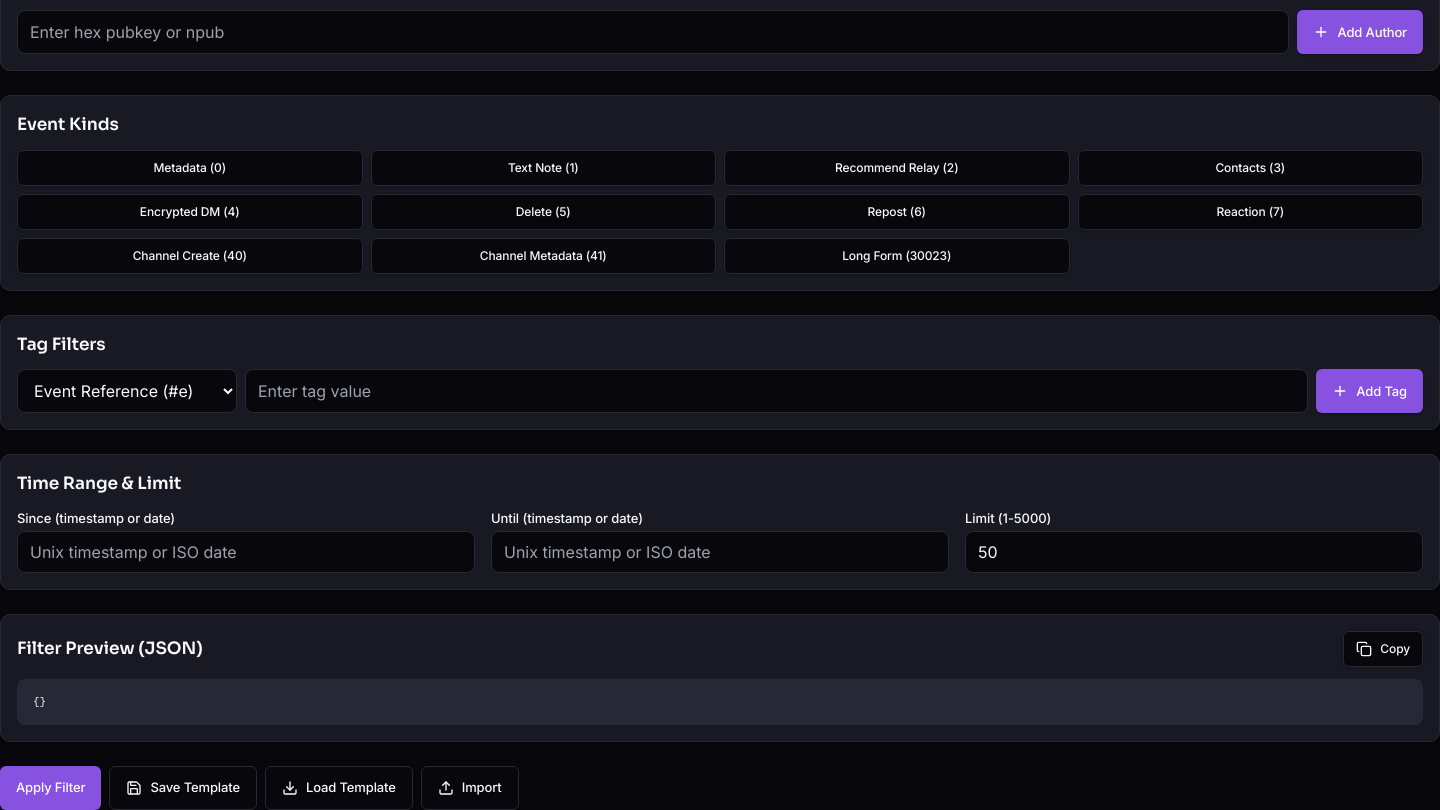
Test: FilterBuilder › Import/Export › rejects malformed JSON import
(page scrolled)
Click the button "Import".
click(470, 788)  # box [421,766,519,809]
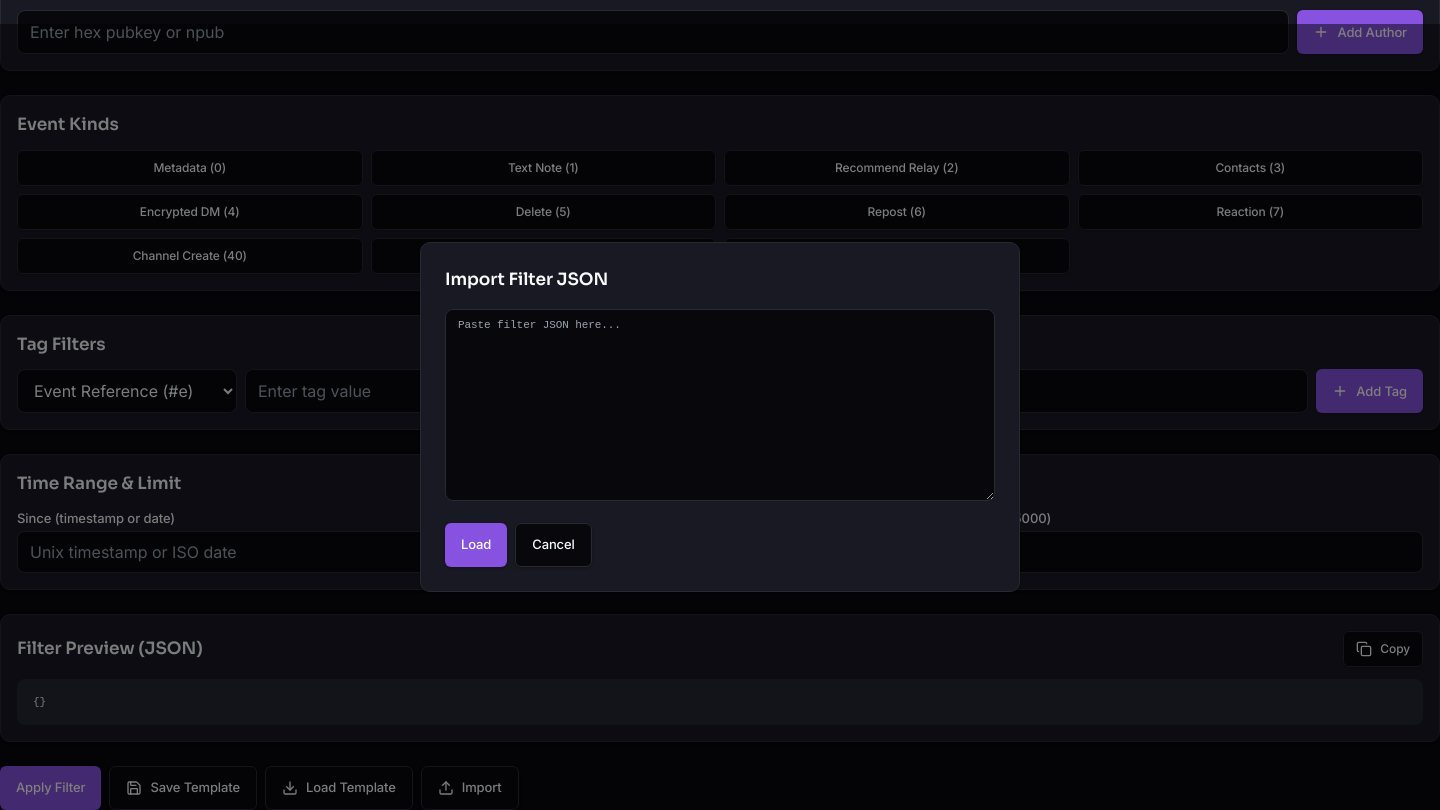
// Use malformed JSON (not parseable) to trigger "invalid JSON format" error
Type "not valid json" into the text box labelled "Paste filter JSON here...".
click(720, 405); type("not valid json")  # box [445,309,995,501]
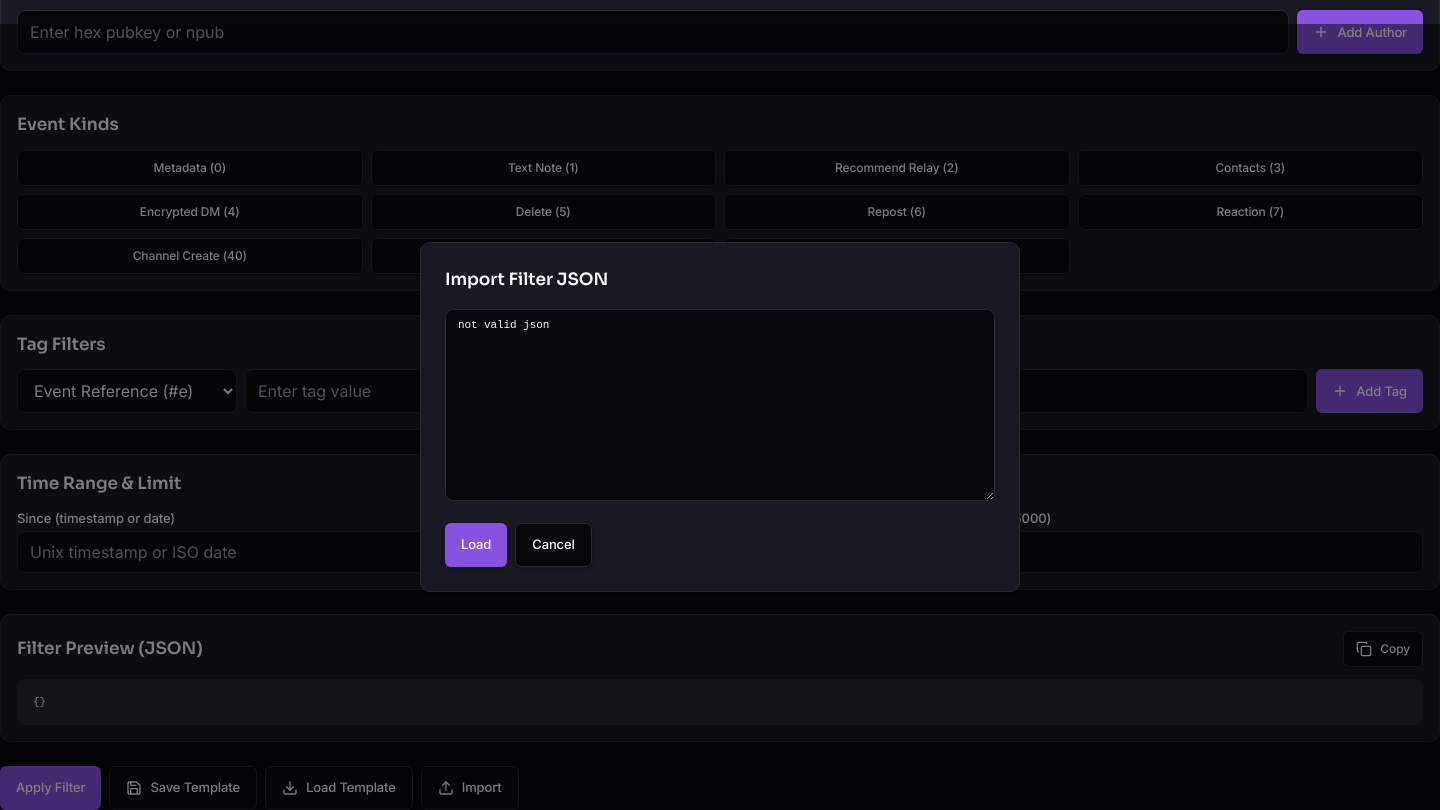
// Import dialog "Load" button has aria-label "Load imported filter"
Click the button with aria-label "load imported filter".
click(476, 545)  # box [445,523,507,567]
(page scrolled)
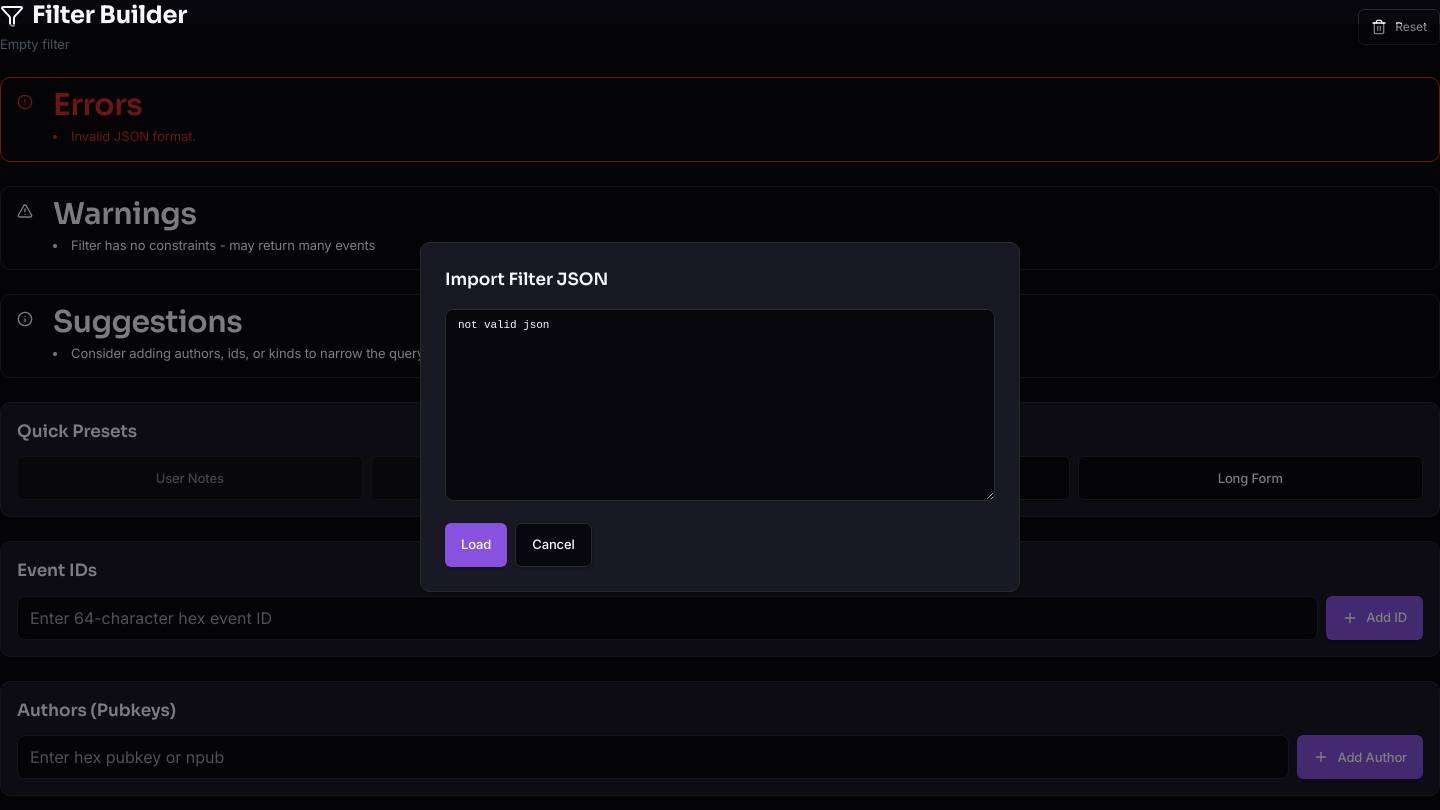
expect the list item "Invalid JSON format." is shown: met, box [71,128,196,144]
